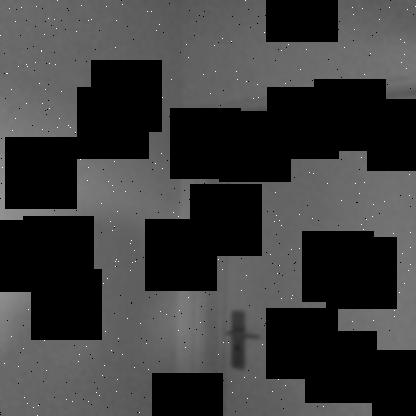Porte: (188, 73, 415, 415)
